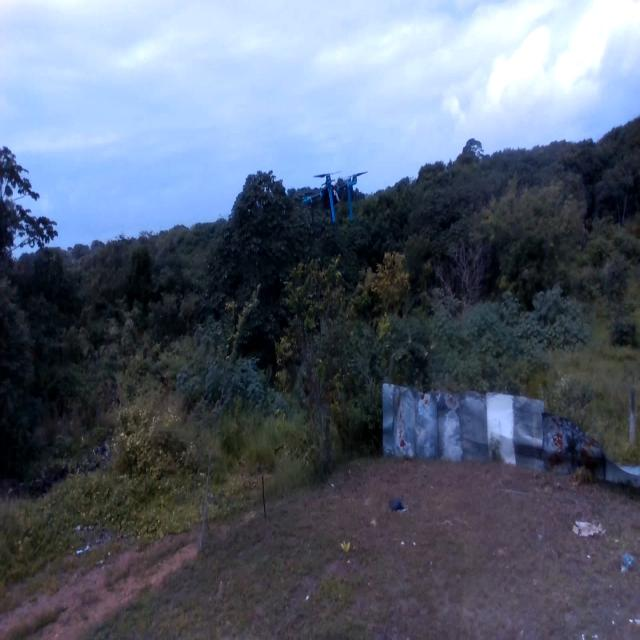-uav-: (299, 162, 368, 246)
